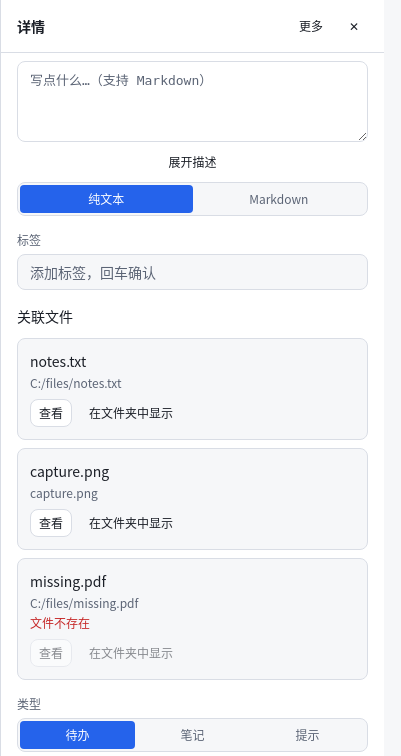
Test: 关联文件只读查看 › 详情页列出全部附件；点击后才读取，文本按原样展示且没有文件编辑操作
Later steps or results of the test are not shown.
(page scrolled)
Check: the button with aria-label "查看「capture.png」" is enabled, box x1=30 y1=509 x2=72 y2=537
Check: the button with aria-label "查看「missing.pdf」" is disabled, box x1=30 y1=639 x2=72 y2=667
Click the button with aria-label "查看「notes.txt」": (51, 413) x1=30 y1=399 x2=72 y2=427
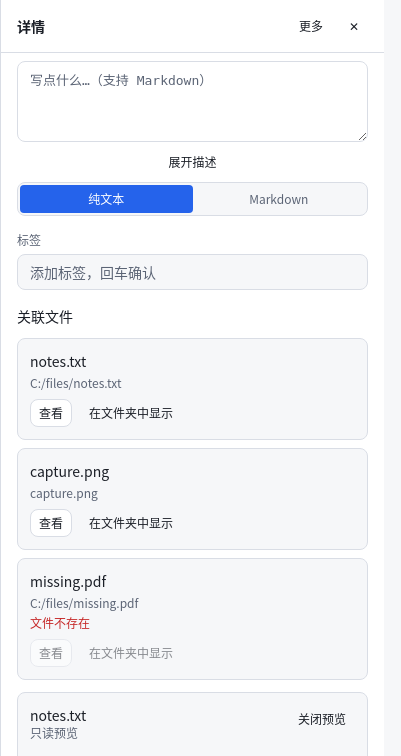
Check: the text "只读预览" is shown, box x1=30 y1=725 x2=86 y2=741
